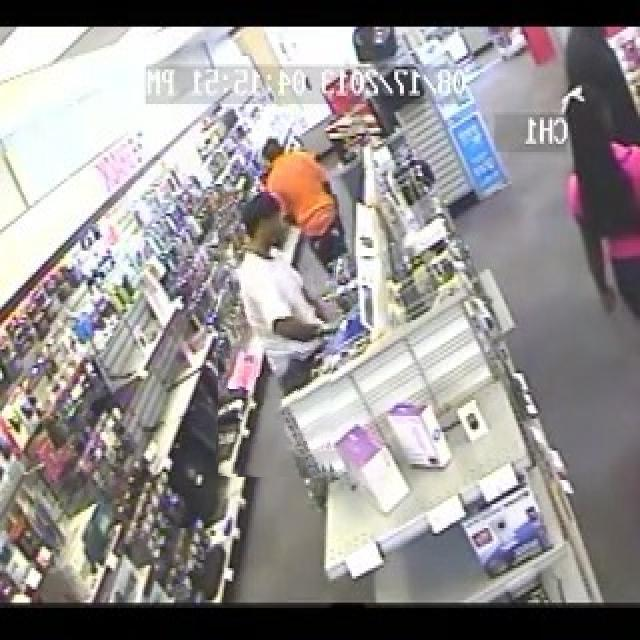Normal: (218, 192, 337, 478)
